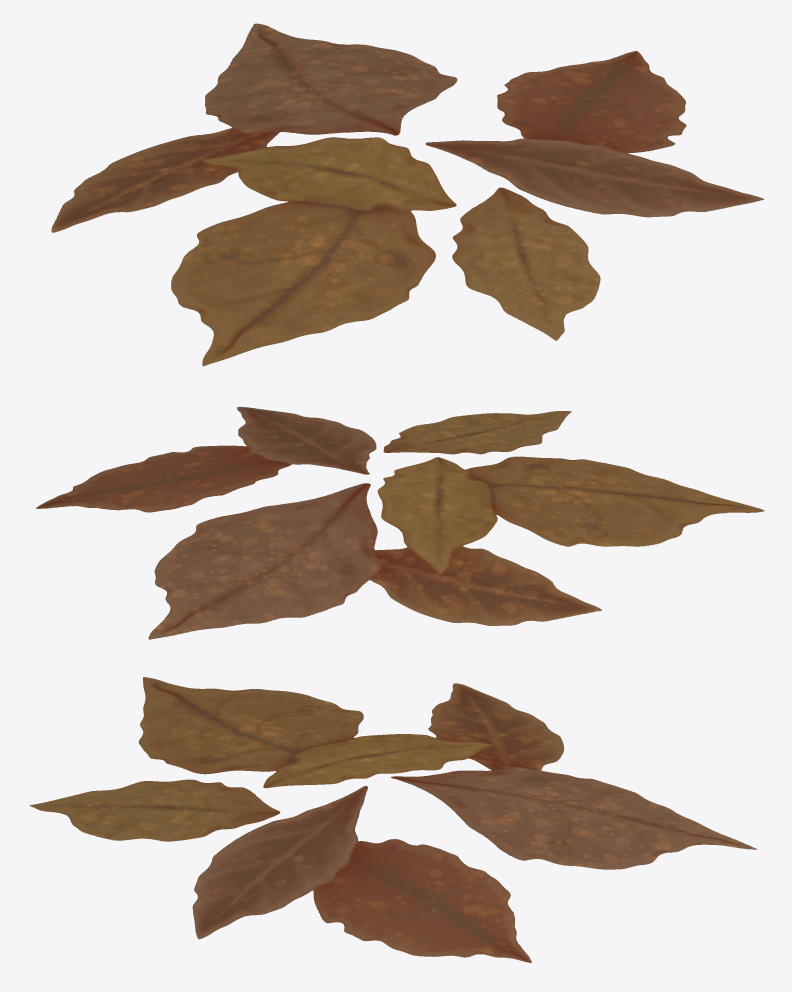
The model's file is MSH_fwOF_Leaves_04.fbx.
3 views of the same model, one above another, from view 1: azimuth 30°, elevation 25°; view 2: azimuth 150°, elevation 25°; view 3: azimuth 270°, elevation 25° (orthographic). The views are drawn at different scales.
Visible parts, largest first — view 1: MSH_fwOF_Leaves_04; view 2: MSH_fwOF_Leaves_04; view 3: MSH_fwOF_Leaves_04.
Boxes of the visible parts, x1=… form: MSH_fwOF_Leaves_04: x1=51, y1=23, x2=764, y2=366; MSH_fwOF_Leaves_04: x1=35, y1=407, x2=764, y2=639; MSH_fwOF_Leaves_04: x1=29, y1=677, x2=757, y2=962.
Size of the model in its own units: 0.3669 by 0.0278 by 0.39.
